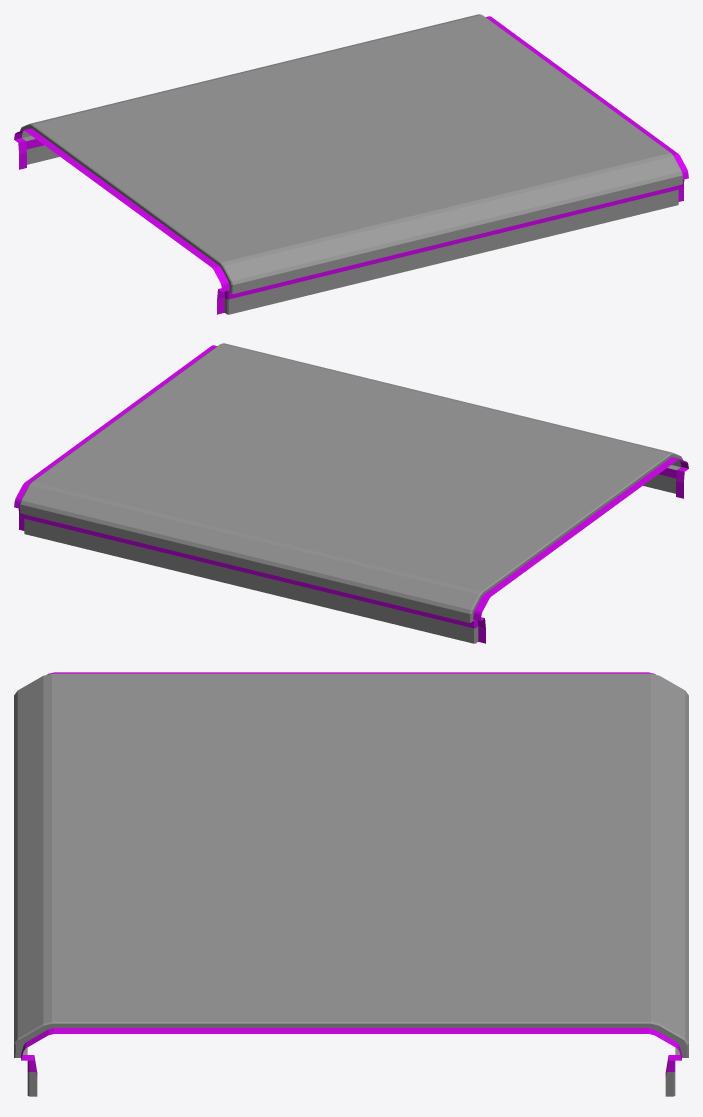
Rendered from stm_ChamferedStraight_A.FBX.
The picture shows the model from 3 angles, top to bottom: view 1: azimuth 30°, elevation 25°; view 2: azimuth 150°, elevation 25°; view 3: azimuth 270°, elevation 25°; orthographic projection. The views are drawn at different scales.
Visible parts, largest first — view 1: stm_chamferedStraight; view 2: stm_chamferedStraight; view 3: stm_chamferedStraight.
Part boxes in pixels (bbox=[...]): stm_chamferedStraight: bbox=[14, 14, 688, 314]; stm_chamferedStraight: bbox=[14, 343, 688, 643]; stm_chamferedStraight: bbox=[14, 672, 688, 1096].
Size of the model in its own units: 500 by 47.69 by 394.
